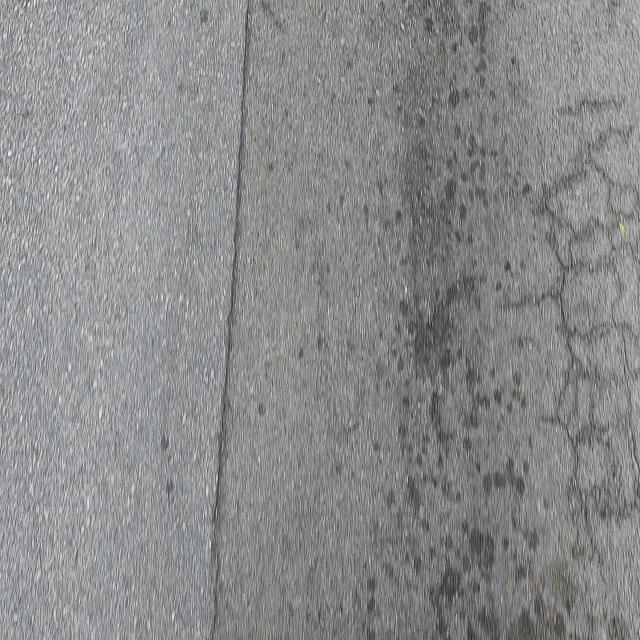Retak-Buaya: (534, 94, 640, 579)
Retak-Memanjang: (207, 3, 254, 640)
